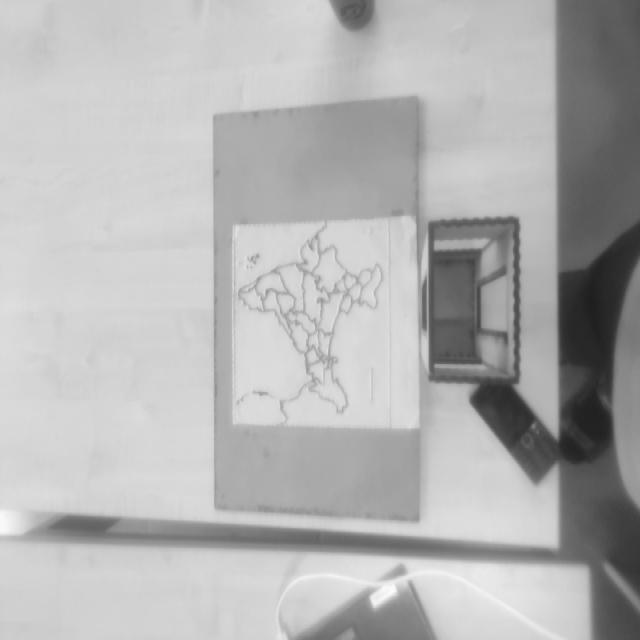map: (233, 218, 390, 430)
